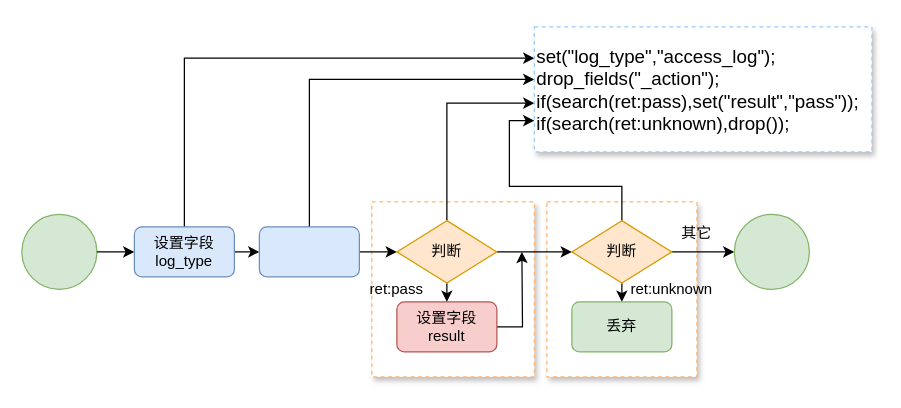
The diagram is 901 pixels wide and 408 high, and some of its shapes have lost their labels. Each missing label, with the centre of its shape:
"丢弃字段 _action" goes at pixel 308 251.
"写入" goes at pixel 771 251.
"读取" goes at pixel 59 251.
